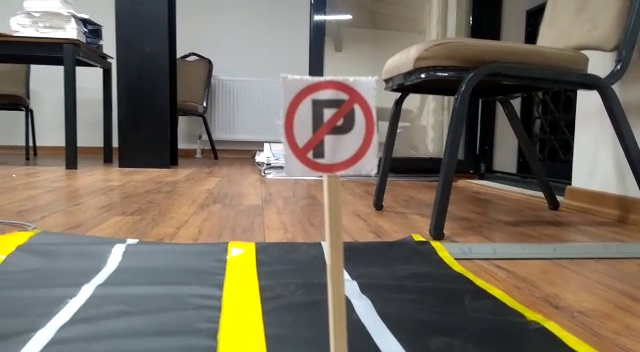park_yapilmaz: (281, 75, 376, 175)
